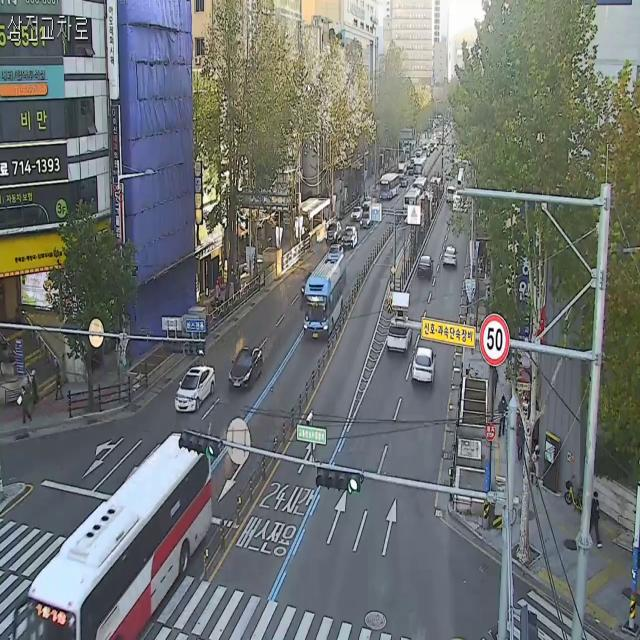car: (1, 426, 217, 640), (304, 244, 348, 342), (402, 186, 421, 221), (378, 173, 401, 201), (413, 157, 426, 180)
motorcycle: (174, 361, 216, 416), (227, 344, 263, 392), (384, 313, 412, 355), (412, 342, 436, 386), (417, 252, 433, 282), (342, 224, 357, 251), (326, 219, 342, 243), (443, 243, 457, 267), (360, 210, 374, 228), (351, 202, 363, 221), (445, 185, 457, 204)
